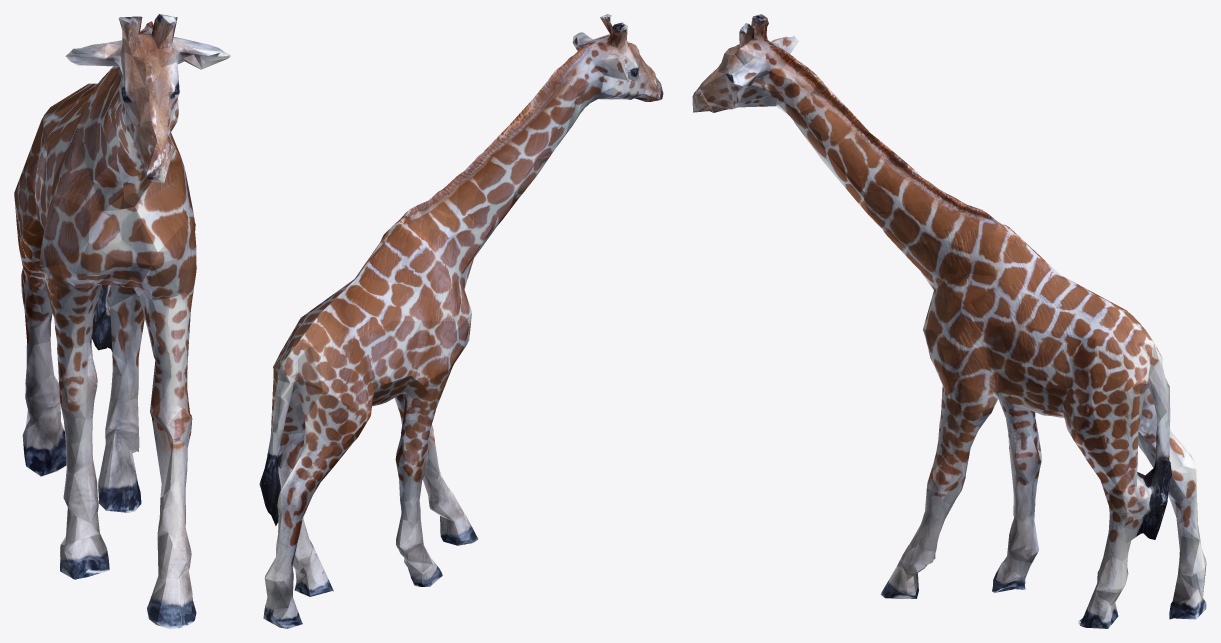
Rendered from jirafa.obj.
3 views of the same model, side by side, from view 1: azimuth 30°, elevation 25°; view 2: azimuth 150°, elevation 25°; view 3: azimuth 270°, elevation 25° (orthographic). The views are drawn at different scales.
Visible parts, largest first — view 1: giraffeStatue:Mesh; view 2: giraffeStatue:Mesh; view 3: giraffeStatue:Mesh.
Boxes of the visible parts, left/top/right/bottom form: giraffeStatue:Mesh: left=14, top=14, right=230, bottom=628; giraffeStatue:Mesh: left=259, top=14, right=663, bottom=628; giraffeStatue:Mesh: left=692, top=14, right=1206, bottom=628.
Bounding box in the file's own units: 2.45 × 5.59 × 4.9.
Materials: 1 (1 with a texture image).
